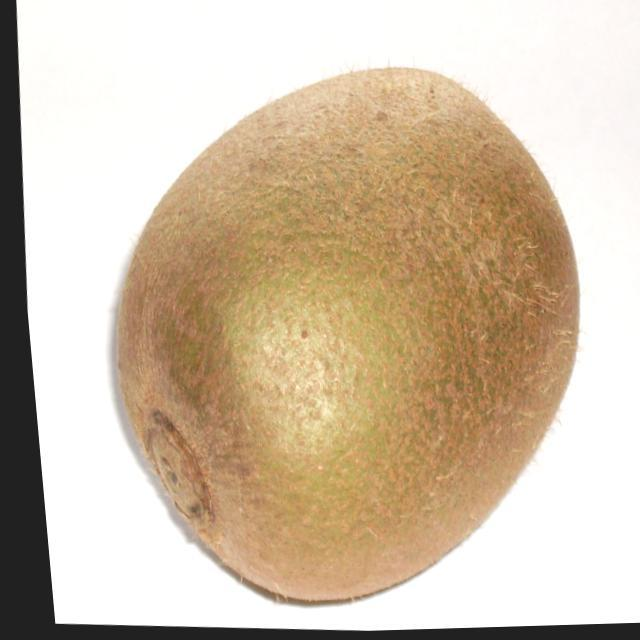kiwi: (72, 47, 610, 628)
